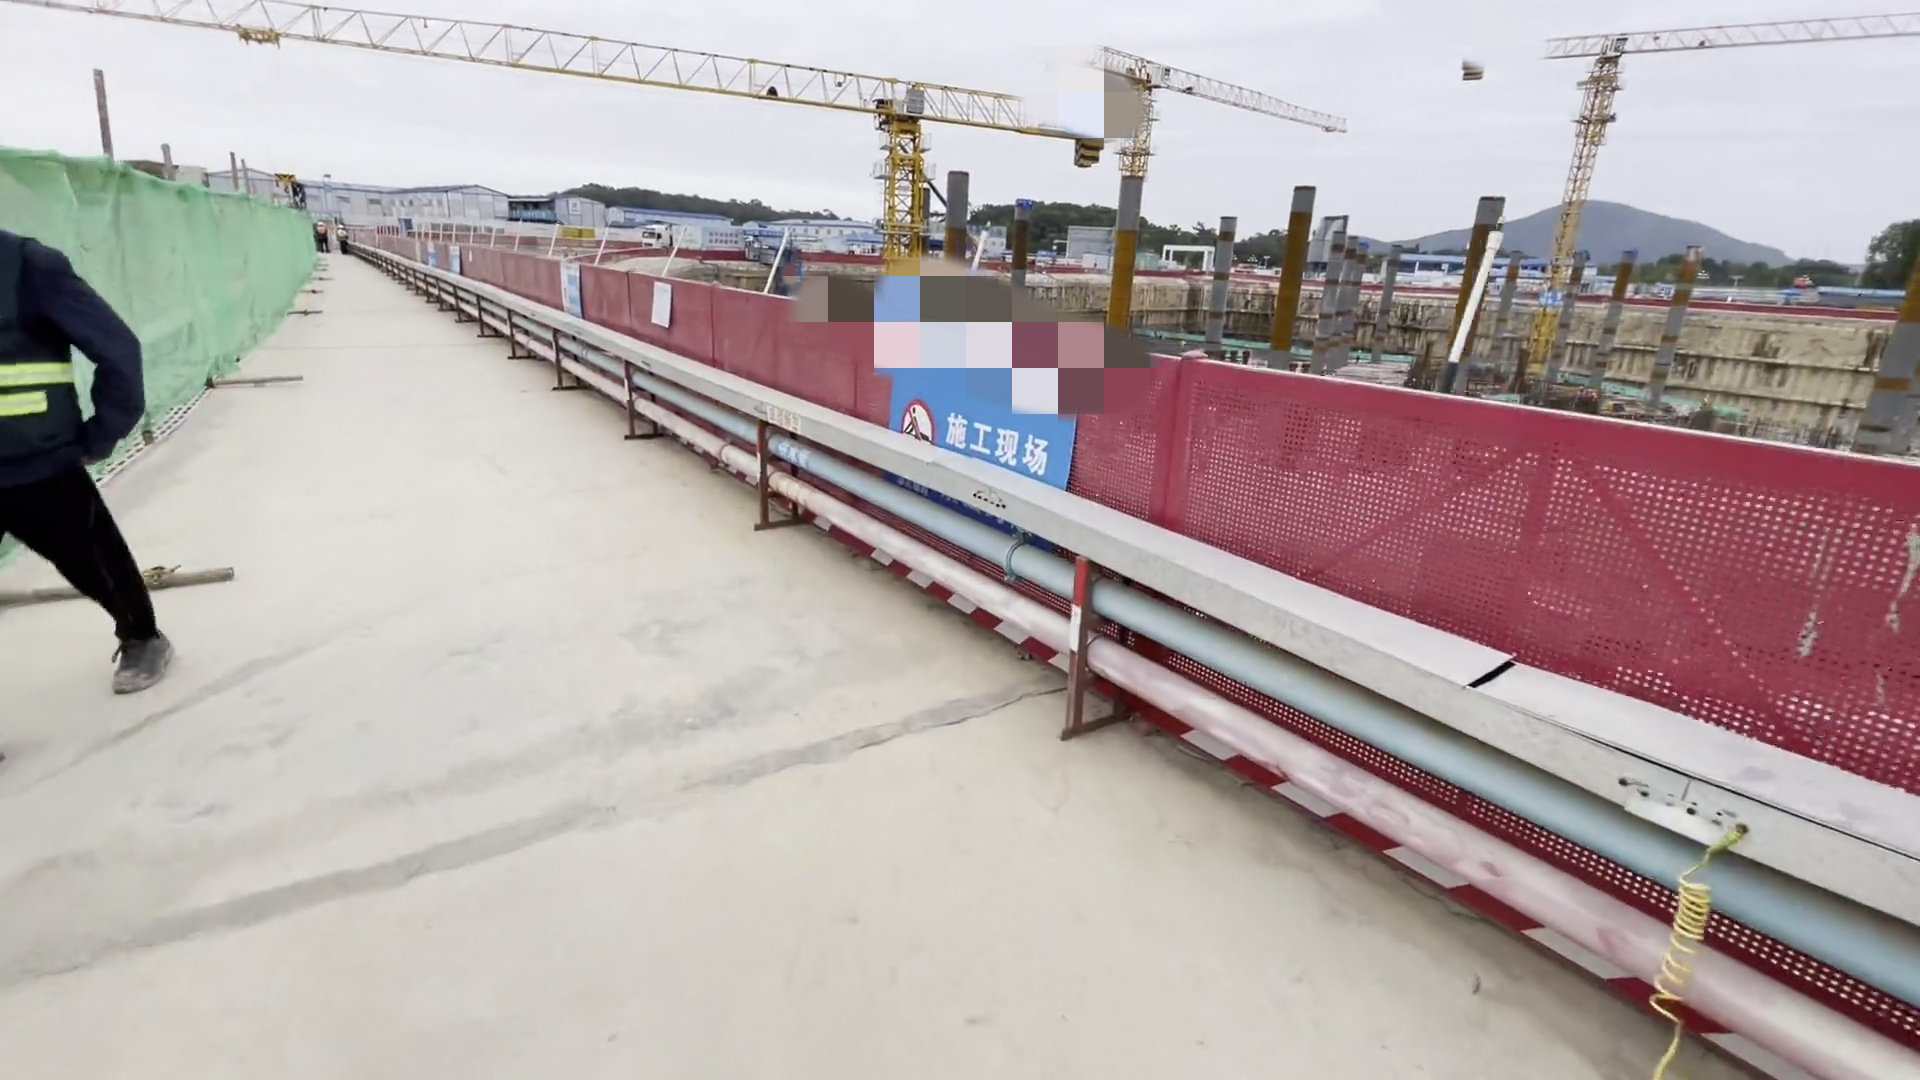fence: (186, 173, 1781, 736)
hook: (267, 151, 311, 214)
person: (9, 218, 204, 723), (309, 212, 334, 264), (333, 219, 351, 254)
slogan: (881, 328, 1073, 493), (410, 231, 483, 287), (556, 258, 591, 314)
vest: (1, 229, 97, 475)
